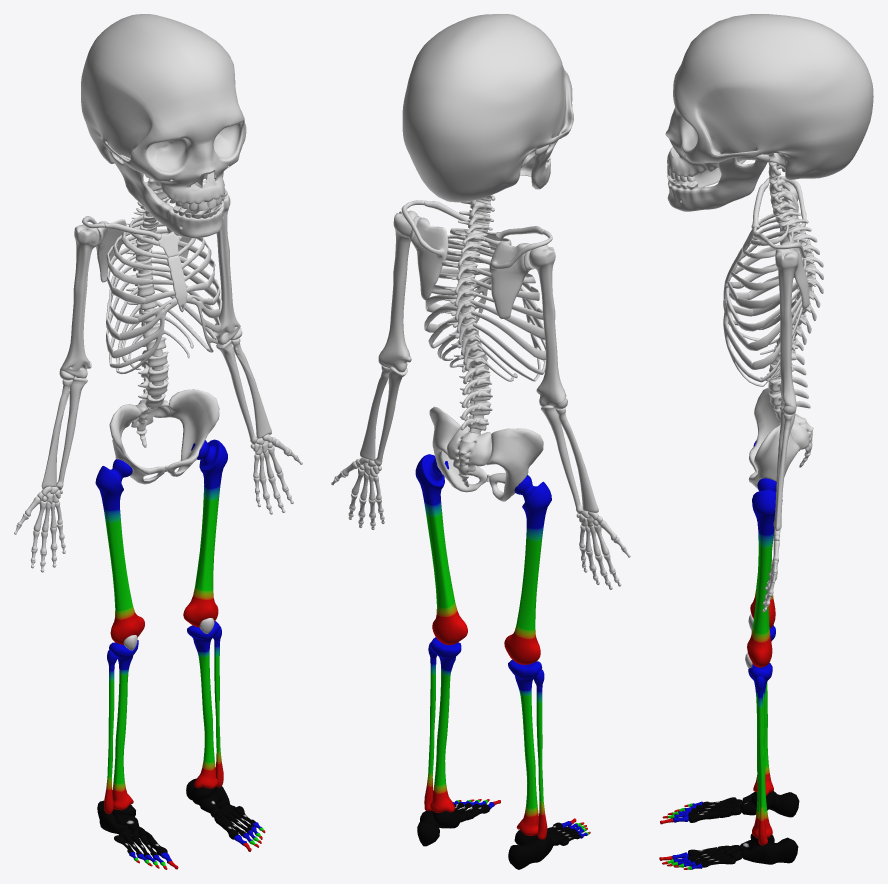
File: 2yo_lower.glb
3 views of the same model, side by side, from view 1: azimuth 30°, elevation 25°; view 2: azimuth 150°, elevation 25°; view 3: azimuth 270°, elevation 25° (orthographic). The views are drawn at different scales.
Parts seen in each view (by area): view 1: upper_bones, right_arm, left_arm, pelvis, femur_left, femur_right, tibia_left, tibia_right, foot_left_tarsal, foot_right_tarsal, fibula_right, fibula_left; view 2: upper_bones, right_arm, left_arm, pelvis, femur_right, femur_left, tibia_right, tibia_left, foot_right_tarsal, foot_left_tarsal, fibula_right, fibula_left; view 3: upper_bones, left_arm, femur_left, pelvis, foot_left_tarsal, foot_right_tarsal, tibia_left, fibula_left, tibia_right.
Part boxes in pixels (box(x1,y1,x2,y2)): upper_bones: box(81, 14, 246, 650); right_arm: box(14, 224, 99, 572); left_arm: box(212, 194, 302, 514); pelvis: box(109, 389, 219, 484); femur_left: box(183, 439, 227, 627); femur_right: box(95, 459, 144, 644); tibia_left: box(187, 621, 219, 788); tibia_right: box(109, 640, 138, 810); foot_left_tarsal: box(186, 778, 235, 824); foot_right_tarsal: box(97, 800, 152, 837); fibula_right: box(104, 650, 117, 813); fibula_left: box(213, 626, 223, 787); upper_bones: box(401, 14, 573, 487); right_arm: box(529, 244, 630, 589); left_arm: box(331, 210, 417, 529); pelvis: box(429, 406, 543, 501); femur_right: box(504, 475, 551, 664); femur_left: box(415, 454, 467, 645); tibia_right: box(508, 659, 542, 835); tibia_left: box(430, 637, 461, 812); foot_right_tarsal: box(508, 830, 559, 869); foot_left_tarsal: box(417, 810, 474, 846); fibula_right: box(533, 669, 547, 839); fibula_left: box(424, 642, 437, 810); upper_bones: box(665, 14, 873, 668); left_arm: box(762, 248, 798, 612); femur_left: box(747, 478, 782, 667); pelvis: box(748, 387, 800, 489); foot_left_tarsal: box(717, 834, 798, 864); foot_right_tarsal: box(718, 791, 799, 817); tibia_left: box(748, 663, 772, 838); fibula_left: box(755, 676, 767, 845); tibia_right: box(751, 625, 775, 795).
Bounding box in the file's own units: 10.39 × 27.39 × 6.47.
